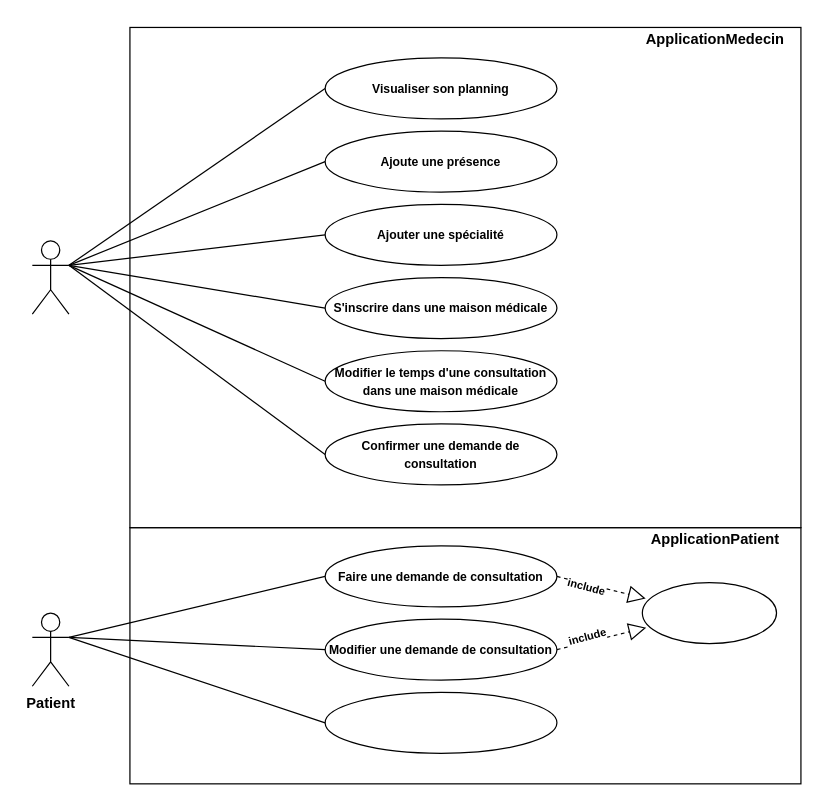
Image size: 822x805. Some labels were removed from this diagram. The centre of each missing label's shape, as x and y in pixels:
"Médecin" goes at [50,277].
"Supprimer une demande de consultation" goes at [440,722].
"Vérifier la disponibilité d'un médecin" goes at [709,612].
